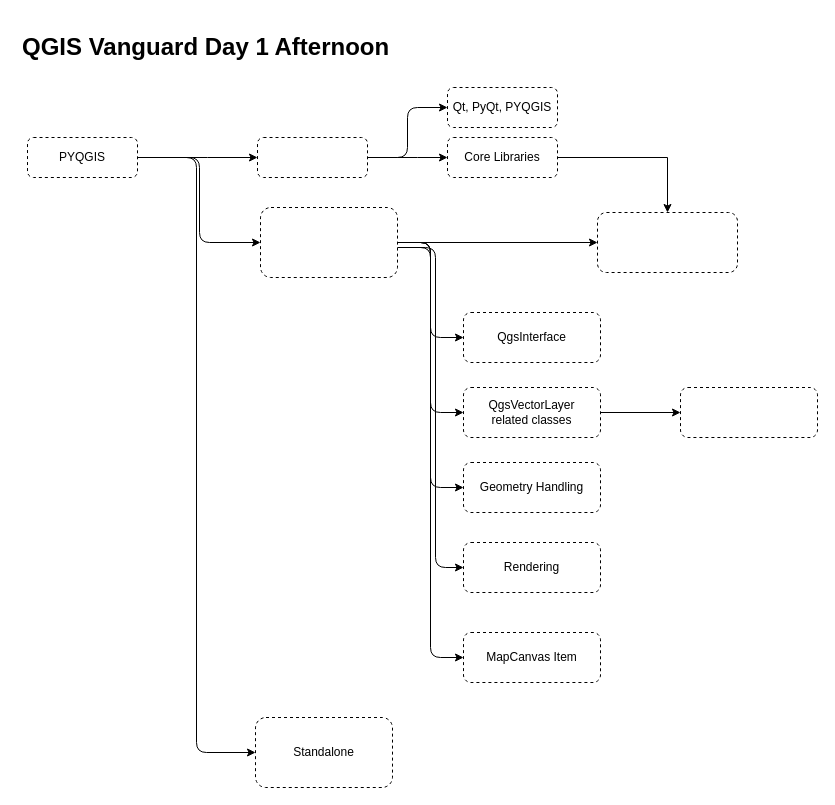
Image size: 835x805. Some labels were removed from this diagram. Here are the shapes that lost their labels. From the top down, the box of each, then its label:
(256, 136, 368, 178): Overall Picture
(260, 206, 398, 278): Standalone Vs Plugin Development
(596, 212, 738, 272): Search API _api __cookbook _pyqgis
(680, 386, 818, 438): QgsFeature QgsFields
